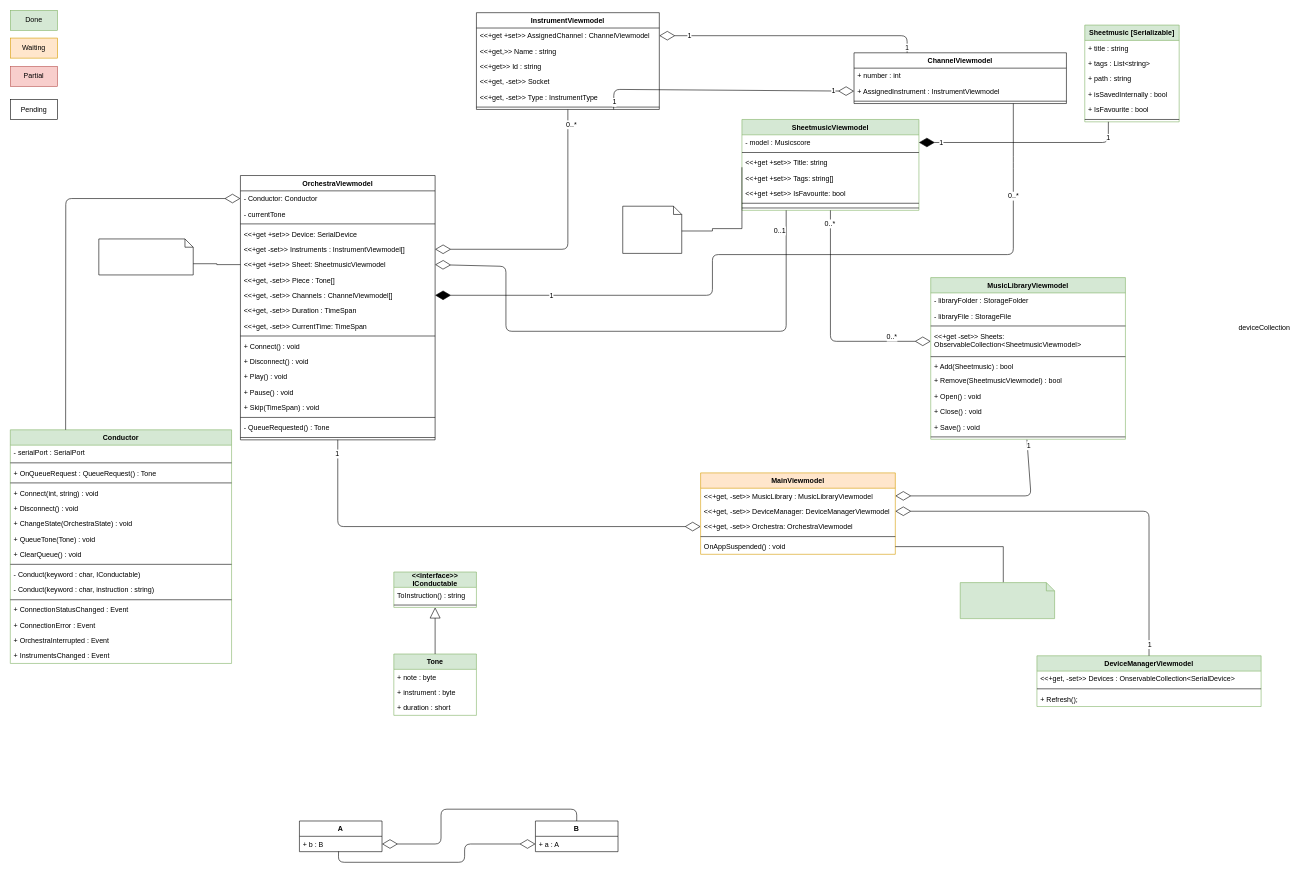
Some shapes in this 1313 by 888 pixel diagram are drawn without their labels. Here are the shapes that lost their labels. From the top down, the centre of each, then its label:
At [652,229]: "Reset Time".
At [145,256]: "Load() on change".
At [1007,600]: "MusicLibrary.Save() MusicLibrary.Close()".
